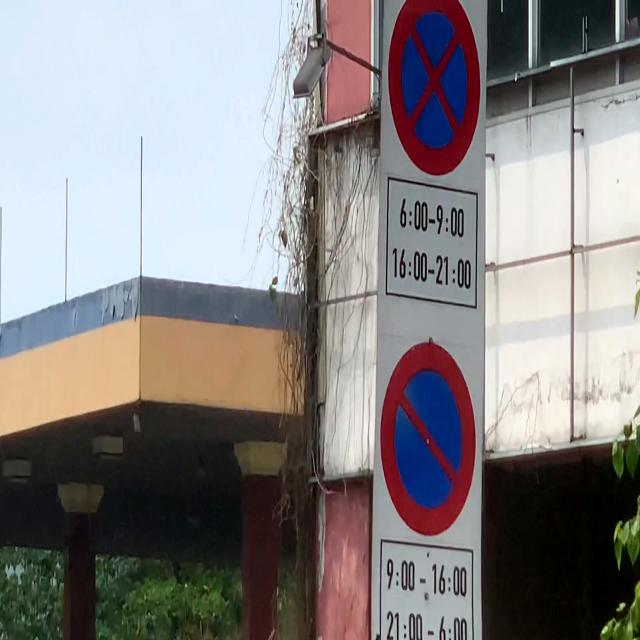P.130: (388, 0, 482, 178)
P.131a: (380, 340, 477, 538)
